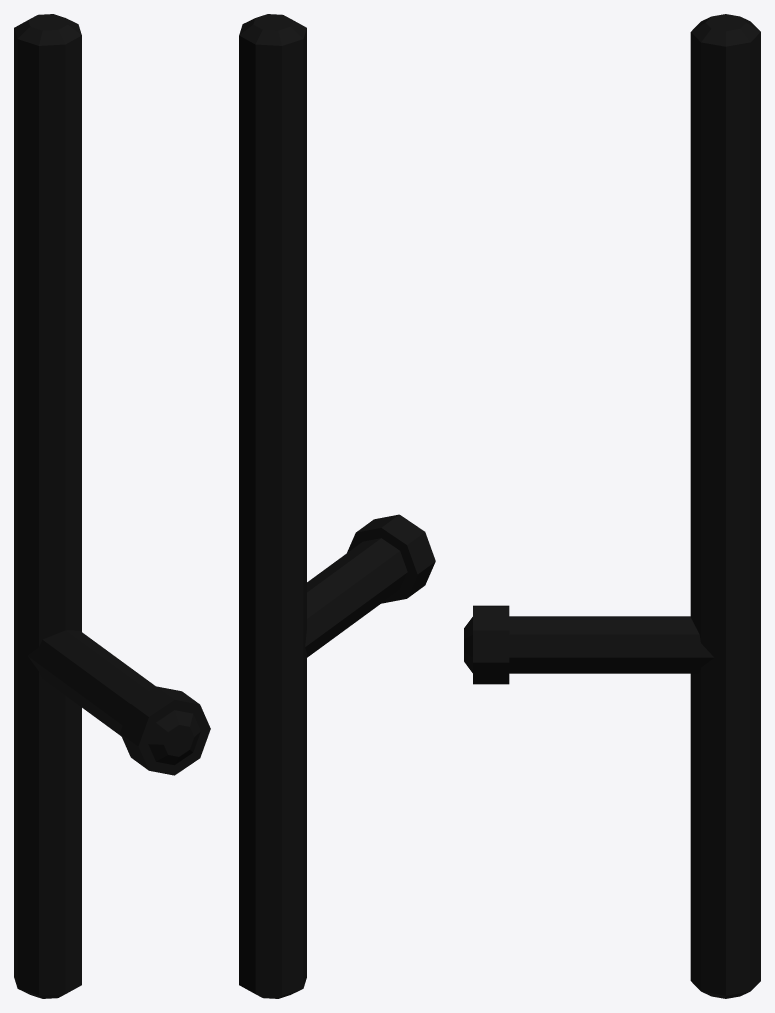
The model's file is Baton.fbx.
The picture shows the model from 3 angles, left to right: view 1: azimuth 30°, elevation 25°; view 2: azimuth 150°, elevation 25°; view 3: azimuth 270°, elevation 25°; orthographic projection.
Visible parts, largest first — view 1: Cylinder; view 2: Cylinder; view 3: Cylinder.
Boxes of the visible parts, bbox=[...] form: Cylinder: bbox=[14, 14, 210, 998]; Cylinder: bbox=[239, 14, 435, 998]; Cylinder: bbox=[464, 14, 760, 998].
Size of the model in its own units: 23.83 by 304 by 84.59.
